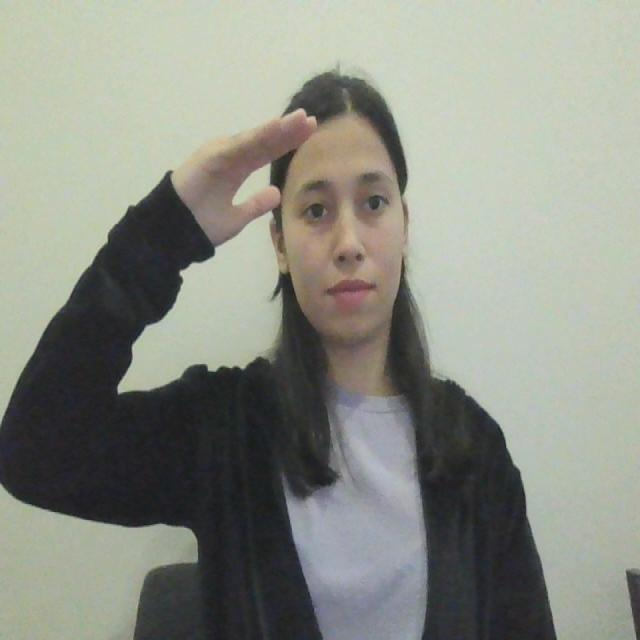Merhaba: (160, 90, 334, 316)
